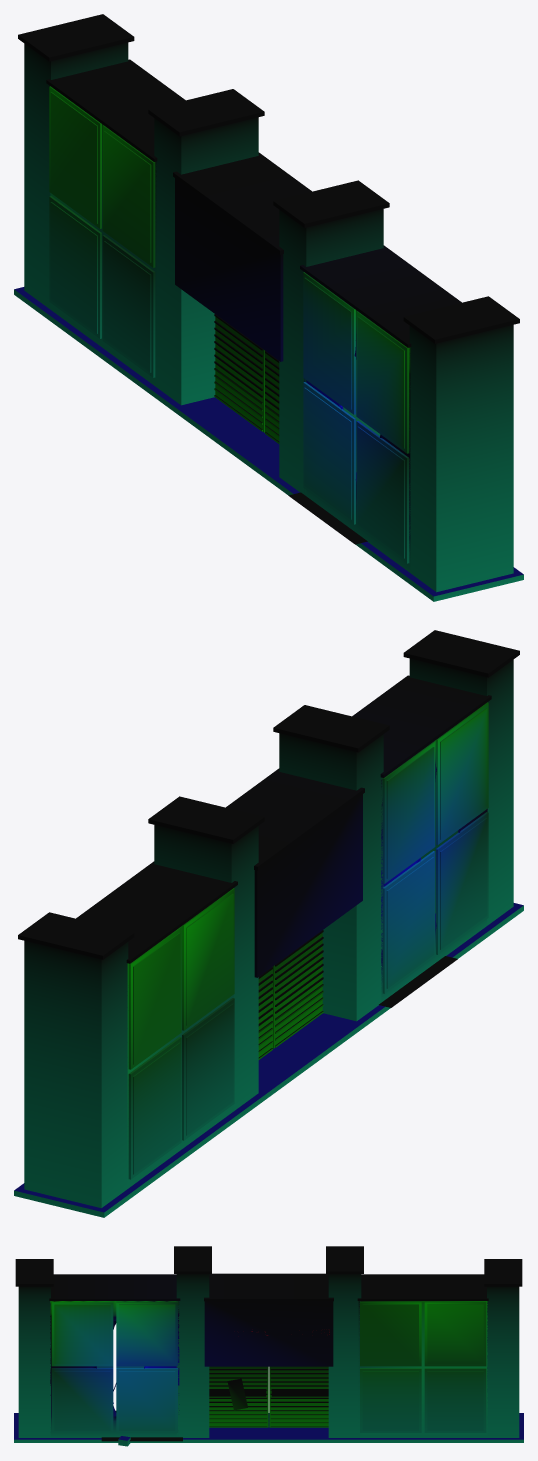
The model's file is s_heavygate_damaged.glb.
3 renders of one model, top to bottom at view 1: azimuth 30°, elevation 25°; view 2: azimuth 150°, elevation 25°; view 3: azimuth 270°, elevation 25°, orthographic. The views are drawn at different scales.
Visible parts, largest first — view 1: lod0, door_l, door_r; view 2: lod0, door_r, door_l; view 3: lod0, door_l, door_r.
Part boxes in pixels (<box>): lod0: <box>14,14,523,601</box>; door_l: <box>214,314,264,432</box>; door_r: <box>265,351,279,443</box>; lod0: <box>14,630,523,1217</box>; door_r: <box>273,930,323,1048</box>; door_l: <box>258,967,272,1059</box>; lod0: <box>14,1246,523,1446</box>; door_l: <box>269,1366,328,1427</box>; door_r: <box>209,1366,268,1427</box>.
Size of what is drawn, in the model's own units: 8.53 by 20.82 by 56.4.
